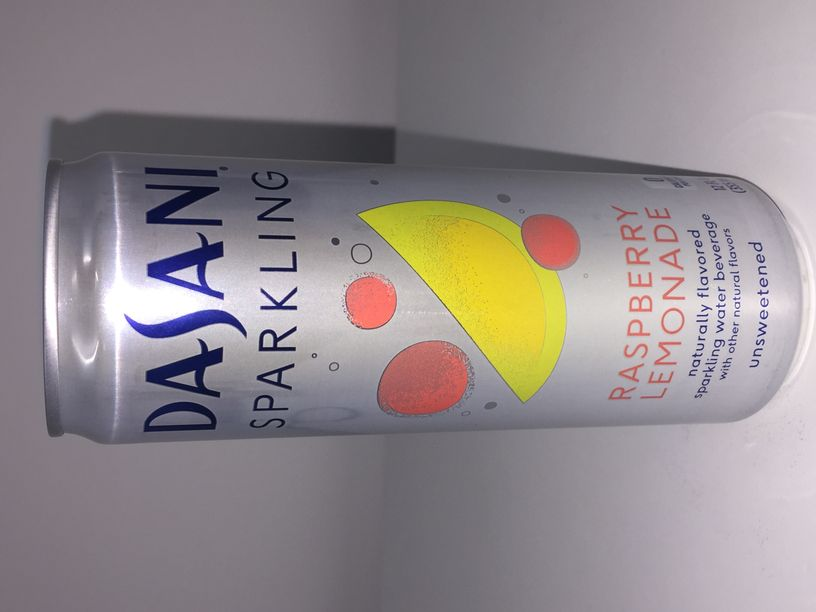lemonade: (40, 149, 808, 446)
